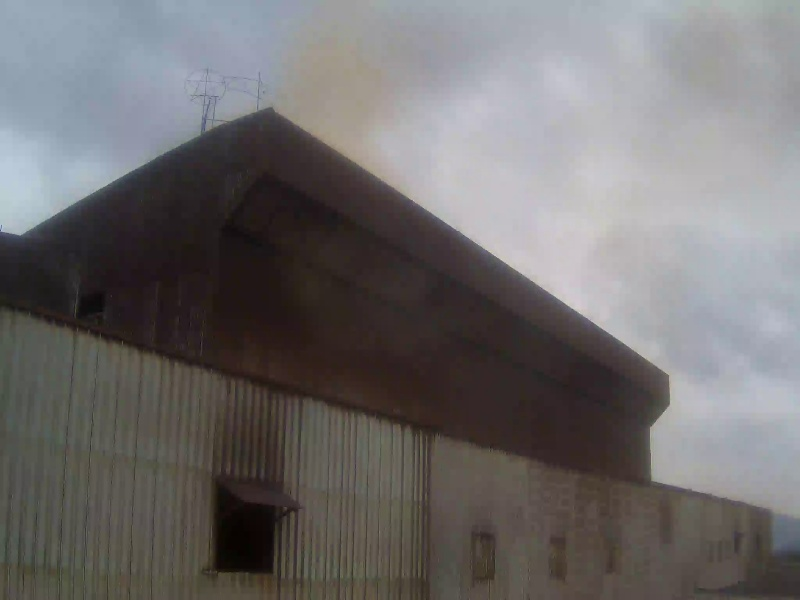bom: (606, 158, 800, 464), (2, 3, 230, 175)
ruim: (261, 4, 435, 222)
